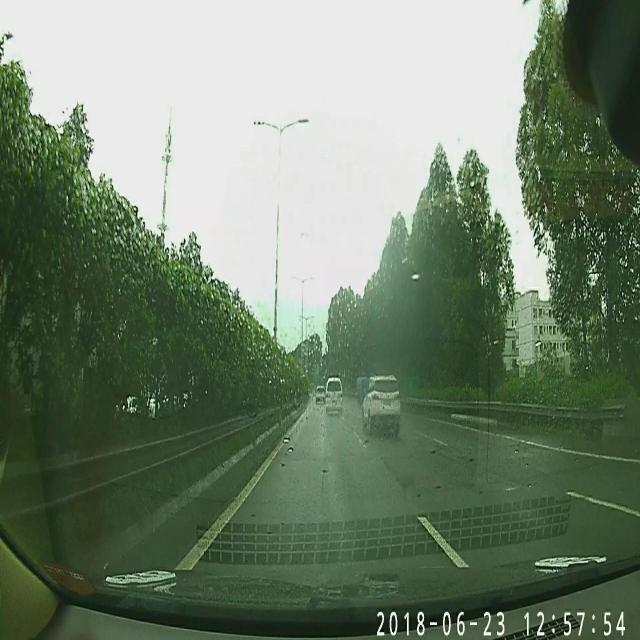car: (361, 374, 402, 432), (324, 376, 344, 410), (314, 384, 327, 406)
